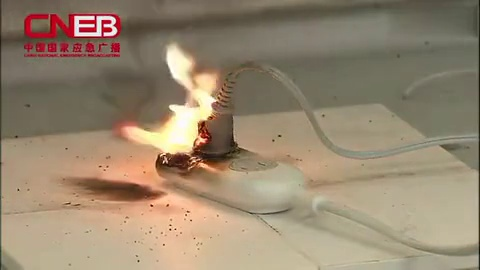fire: (113, 39, 225, 162)
